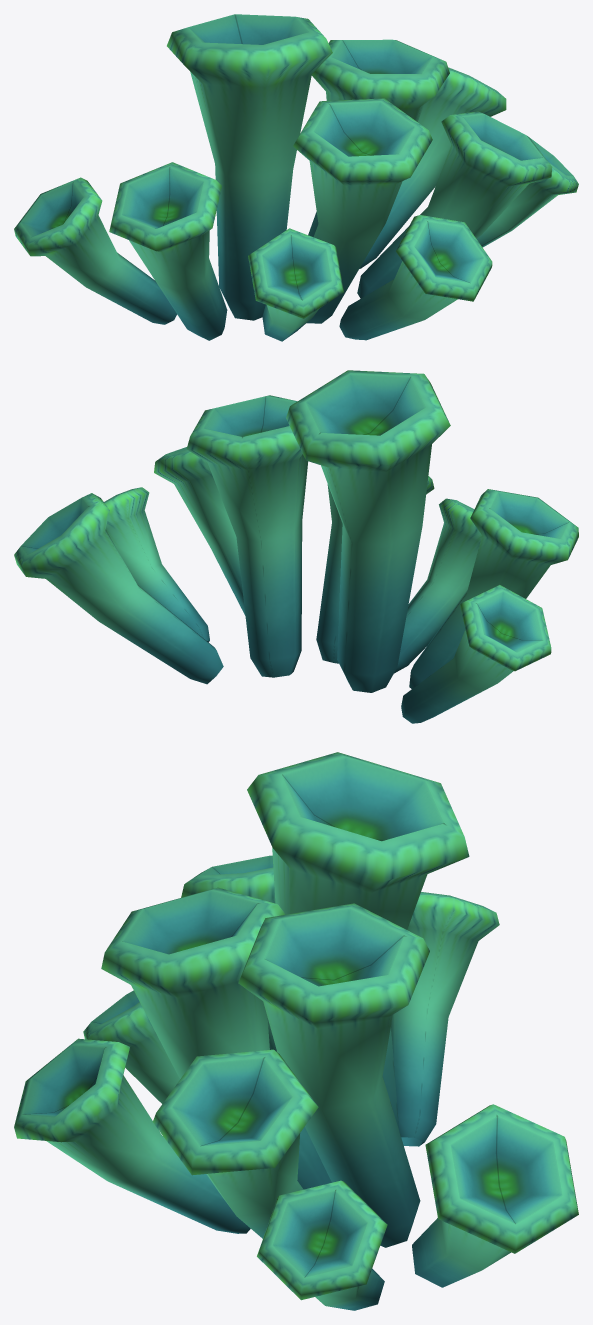
The model's file is Coral_14g.FBX.
3 renders of one model, top to bottom at view 1: azimuth 30°, elevation 25°; view 2: azimuth 150°, elevation 25°; view 3: azimuth 270°, elevation 25°, orthographic. The views are drawn at different scales.
Parts seen in each view (by area): view 1: Coral_14g; view 2: Coral_14g; view 3: Coral_14g.
Part boxes in pixels (bbox=[...]): Coral_14g: bbox=[14, 14, 578, 341]; Coral_14g: bbox=[14, 370, 578, 723]; Coral_14g: bbox=[14, 752, 578, 1310].
Size of the model in its own units: 29.12 by 16.47 by 20.54.
